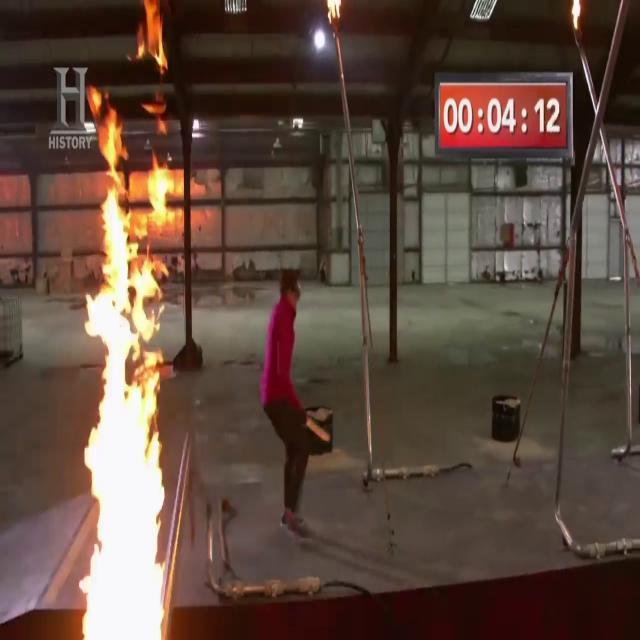Fire: (87, 82, 176, 640), (131, 4, 171, 72)
